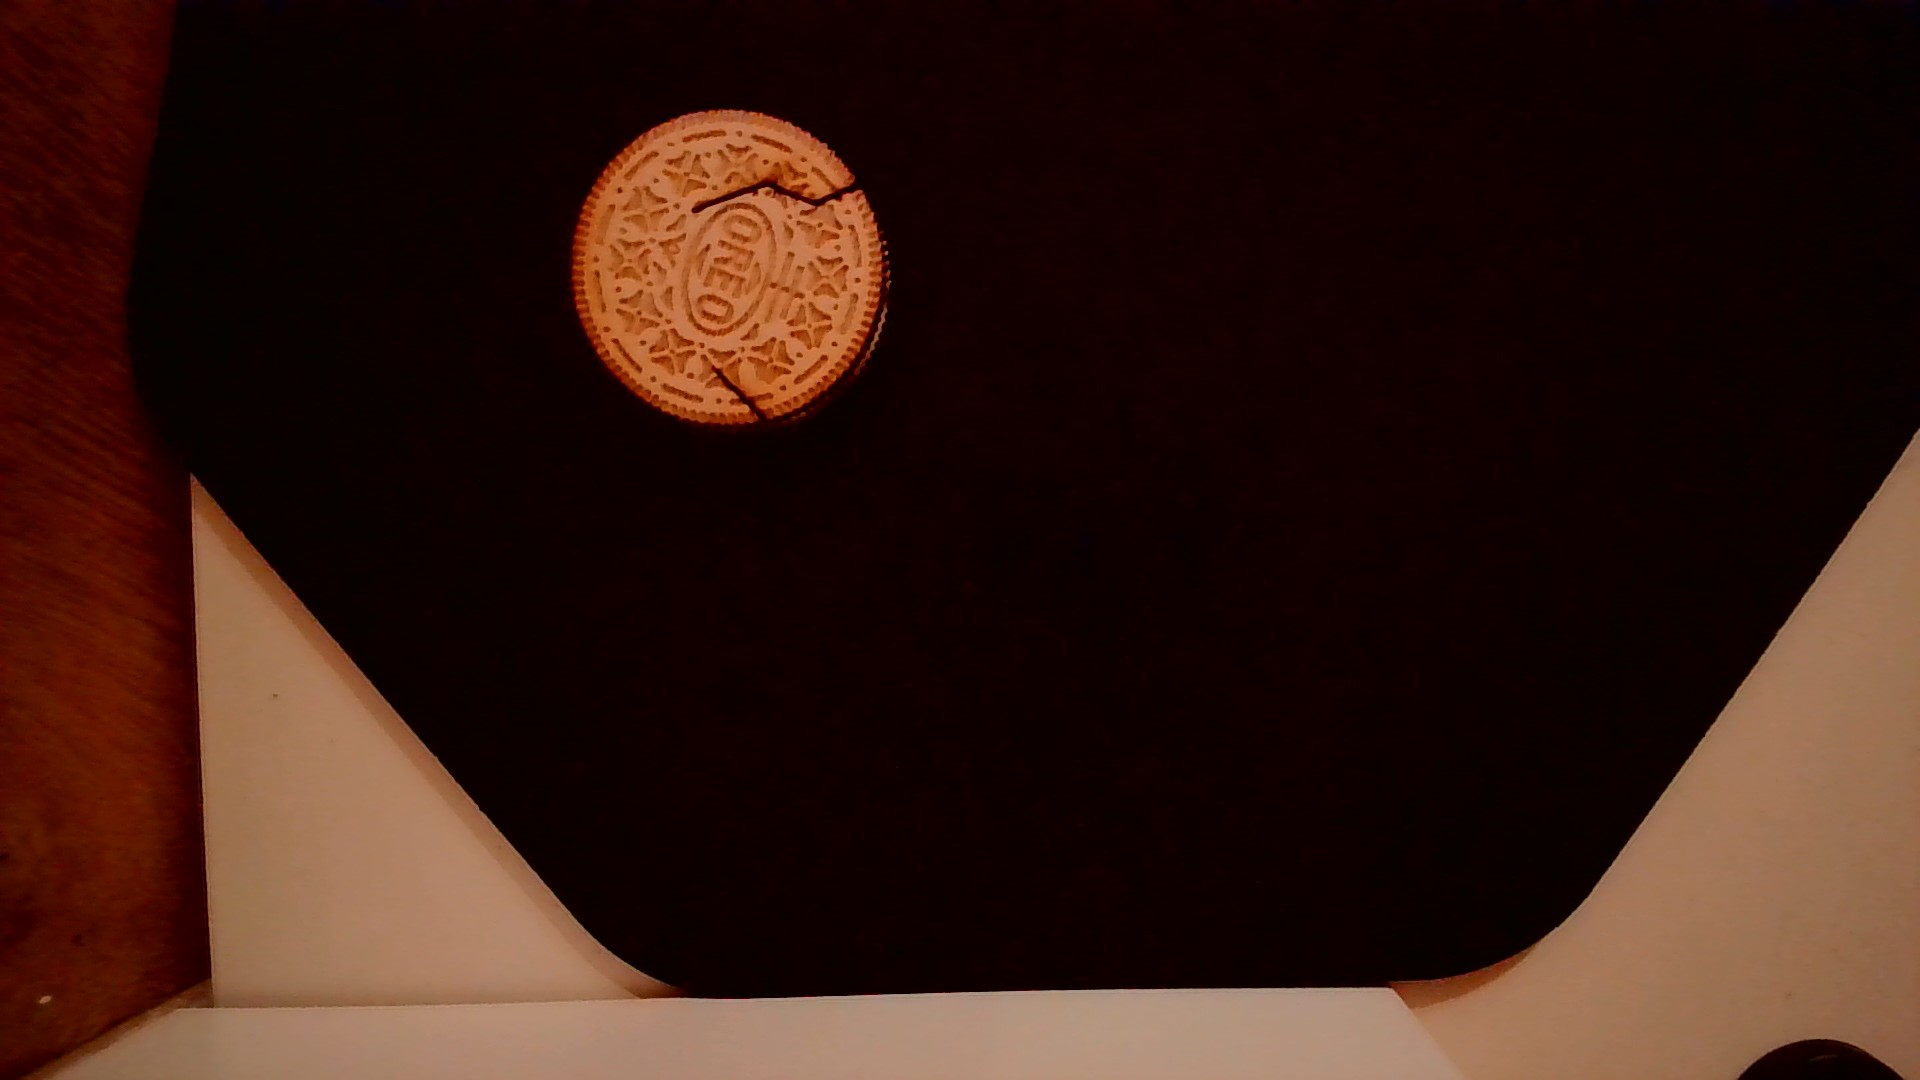Fissure: (682, 170, 870, 215), (713, 357, 775, 429)
Oréo: (564, 104, 897, 438)
